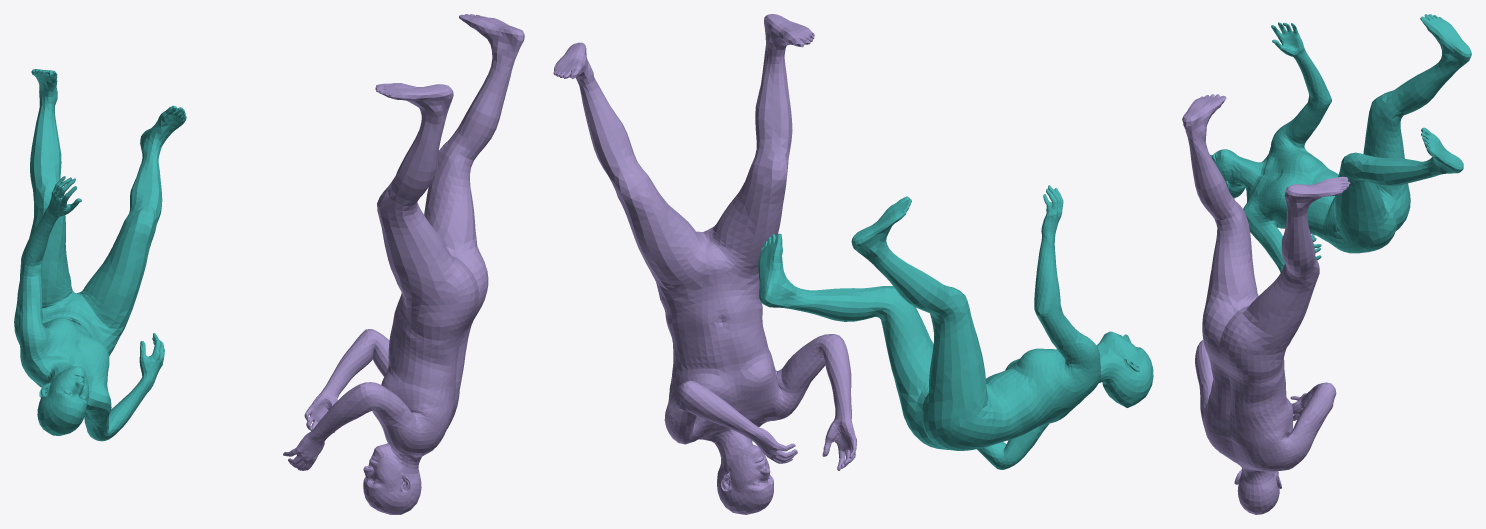
The model's file is all_people_native_world.glb.
3 views of the same model, side by side, from view 1: azimuth 30°, elevation 25°; view 2: azimuth 150°, elevation 25°; view 3: azimuth 270°, elevation 25° (orthographic). The views are drawn at different scales.
Parts seen in each view (by area): view 1: persistent_id_2_slot_0, persistent_id_1_slot_1; view 2: persistent_id_2_slot_0, persistent_id_1_slot_1; view 3: persistent_id_2_slot_0, persistent_id_1_slot_1.
Part boxes in pixels (x1,y1,x2,y2): persistent_id_2_slot_0: (283,14,524,514); persistent_id_1_slot_1: (14,69,186,441); persistent_id_2_slot_0: (553,14,856,514); persistent_id_1_slot_1: (758,185,1153,469); persistent_id_2_slot_0: (1182,94,1350,514); persistent_id_1_slot_1: (1210,14,1471,272).
Bounding box in the file's own units: 2.07 × 1.72 × 1.12.
